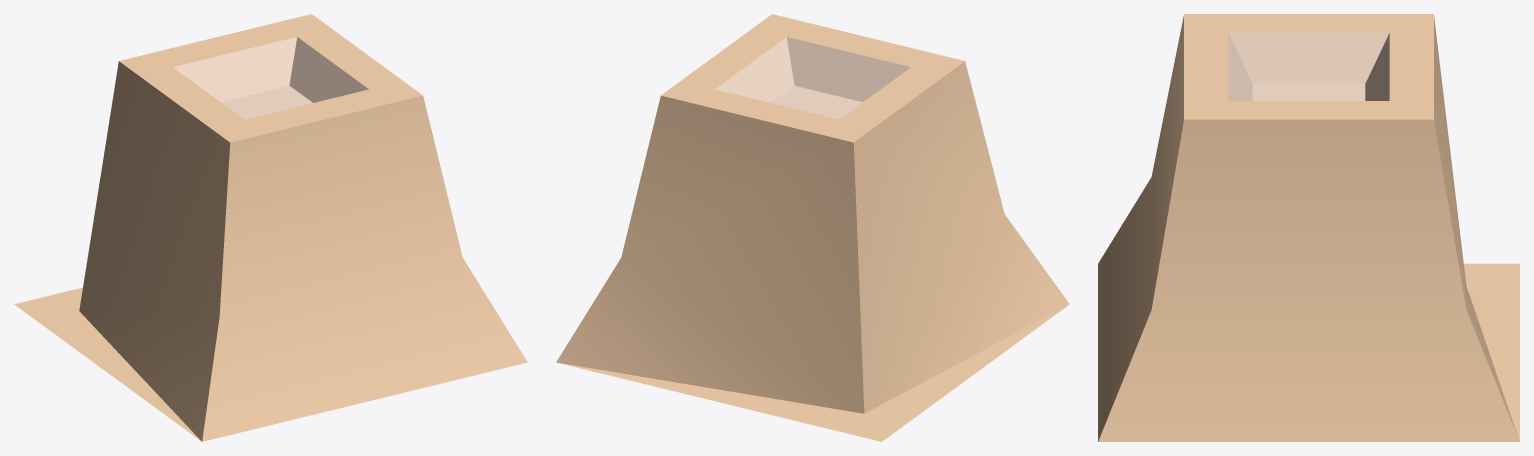
File: treeStump.glb
3 views of the same model, side by side, from view 1: azimuth 30°, elevation 25°; view 2: azimuth 150°, elevation 25°; view 3: azimuth 270°, elevation 25° (orthographic). The views are drawn at different scales.
Visible parts, largest first — view 1: treeStump; view 2: treeStump; view 3: treeStump.
Boxes of the visible parts, x1,y1,x2,y2 form: treeStump: (14,14,527,441); treeStump: (556,14,1069,441); treeStump: (1098,14,1519,441).
Bounding box in the file's own units: 0.2813 × 0.2105 × 0.2813.
